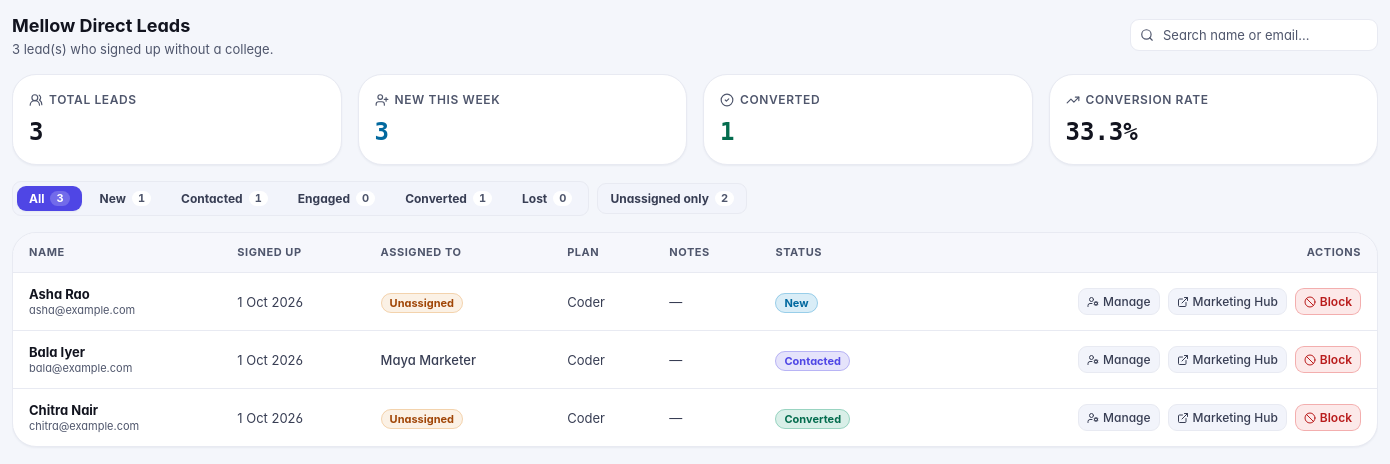
Test: Leads tab — filters are answered by the server › says when nothing matches, and Clear filters puts every control back
The image size is (1390, 464).
Expected: the text "Asha Rao" is shown, [29,286,90,302]
Click the button "Lost 0" at [547, 198], box [510,186,584,211]
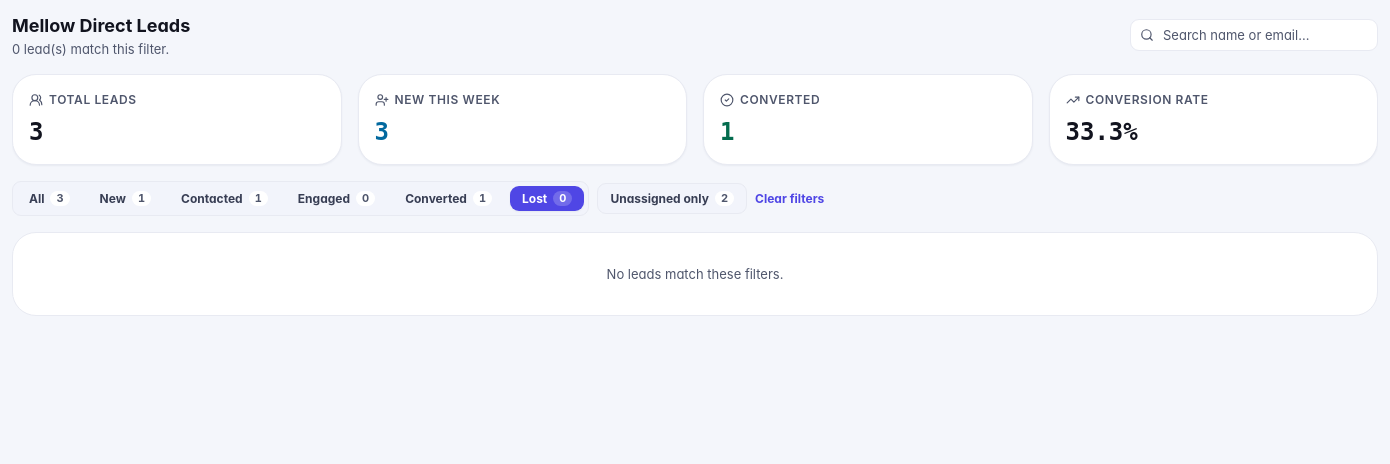
Result: the text "No leads match these filters." is shown at [12,232,1378,316]
Click the button "Clear filters" at [790, 198], box [755,190,824,207]
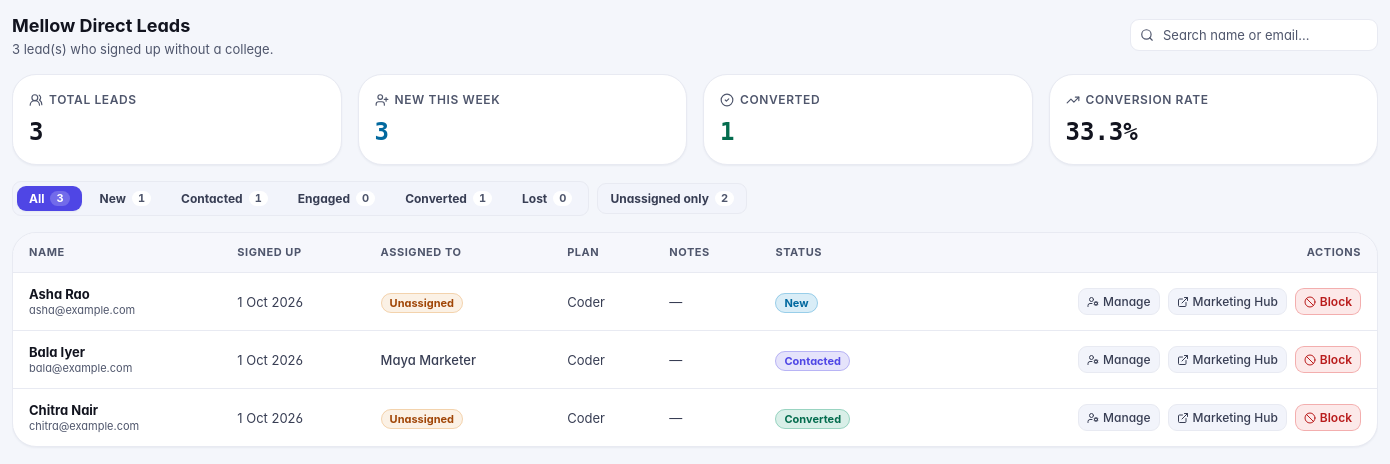
Result: the text "Asha Rao" is shown at [29,286,90,302]
